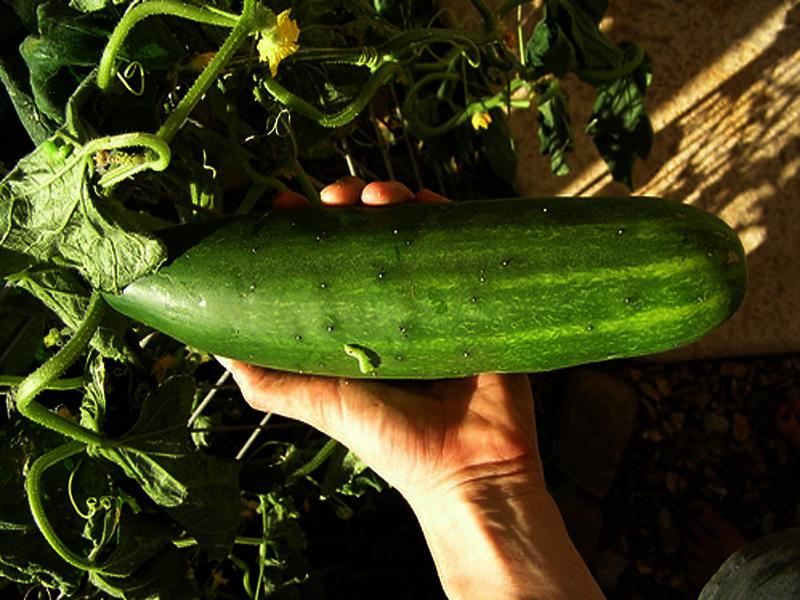Cucumber: (93, 195, 747, 378)
